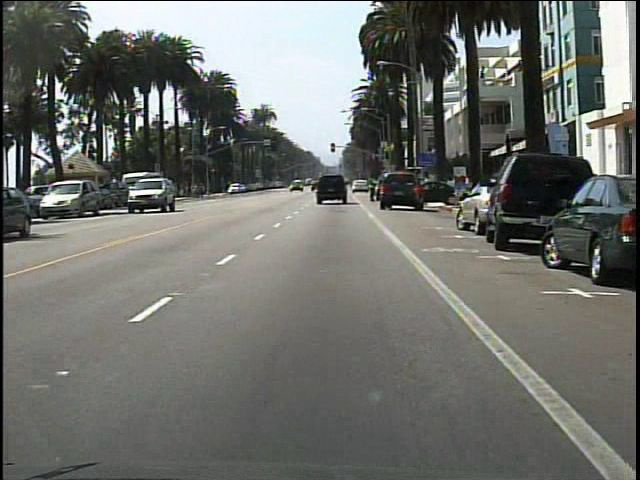person: (365, 174, 382, 204)
